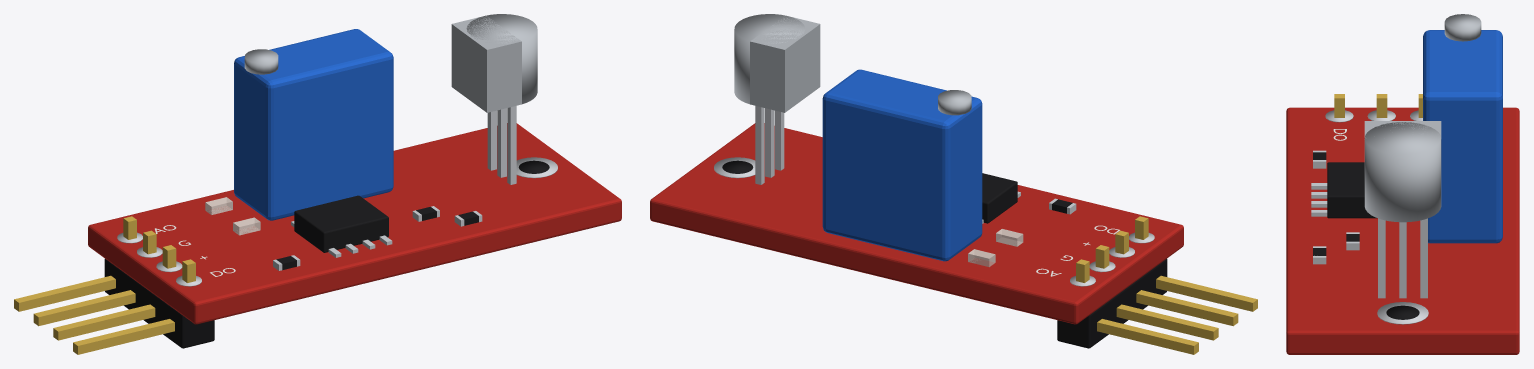
Rendered from touch-sensor.glb.
3 renders of one model, left to right at view 1: azimuth 30°, elevation 25°; view 2: azimuth 150°, elevation 25°; view 3: azimuth 270°, elevation 25°, orthographic. The views are drawn at different scales.
Visible parts, largest first — view 1: pcb.020, trimpot.004, to92_flat.003, lm393.004, to92.003, header.020, pin_h.067, pin_h.068, pin_h.066, pin_h.069, trim_screw.004, leg.017 (+2 smaller); view 2: pcb.020, trimpot.004, to92_flat.003, header.020, to92.003, pin_h.067, pin_h.068, pin_h.069, pin_h.066, lm393.004, leg.019, trim_screw.004 (+2 smaller); view 3: pcb.020, trimpot.004, to92.003, lm393.004, trim_screw.004, leg.017, leg.019, leg.018, to92_flat.003, hole_ring.034, hole.034, pin_v.068 (+3 smaller).
Part boxes in pixels (x1,y1,x2,y2): pcb.020: (88,123,621,324); trimpot.004: (234,29,393,220); to92_flat.003: (451,16,521,112); lm393.004: (294,195,388,252); to92.003: (466,14,537,104); header.020: (104,259,214,348); pin_h.067: (33,290,135,326); pin_h.068: (53,304,155,340); pin_h.066: (14,275,115,311); pin_h.069: (73,319,174,354); trim_screw.004: (244,49,278,74); leg.017: (507,106,516,184); pcb.020: (650,123,1183,324); trimpot.004: (822,69,982,261); to92_flat.003: (750,16,820,112); header.020: (1057,259,1167,348); to92.003: (734,14,805,104); pin_h.067: (1116,304,1218,340); pin_h.068: (1136,290,1238,326); pin_h.069: (1156,275,1257,311); pin_h.066: (1097,319,1198,354); lm393.004: (982,173,1017,223); leg.019: (755,106,764,184); trim_screw.004: (938,90,971,115); pcb.020: (1286,107,1519,354); trimpot.004: (1423,30,1502,243); to92.003: (1364,122,1441,222); lm393.004: (1327,162,1377,218); trim_screw.004: (1444,14,1481,41); leg.017: (1378,218,1385,298); leg.019: (1420,218,1427,298); leg.018: (1399,222,1406,298); to92_flat.003: (1364,121,1441,206); hole_ring.034: (1377,302,1428,324); hole.034: (1386,305,1419,319); pin_v.068: (1376,94,1387,117).
Size of the model in its own units: 0.0391 by 0.0149 by 0.014.
